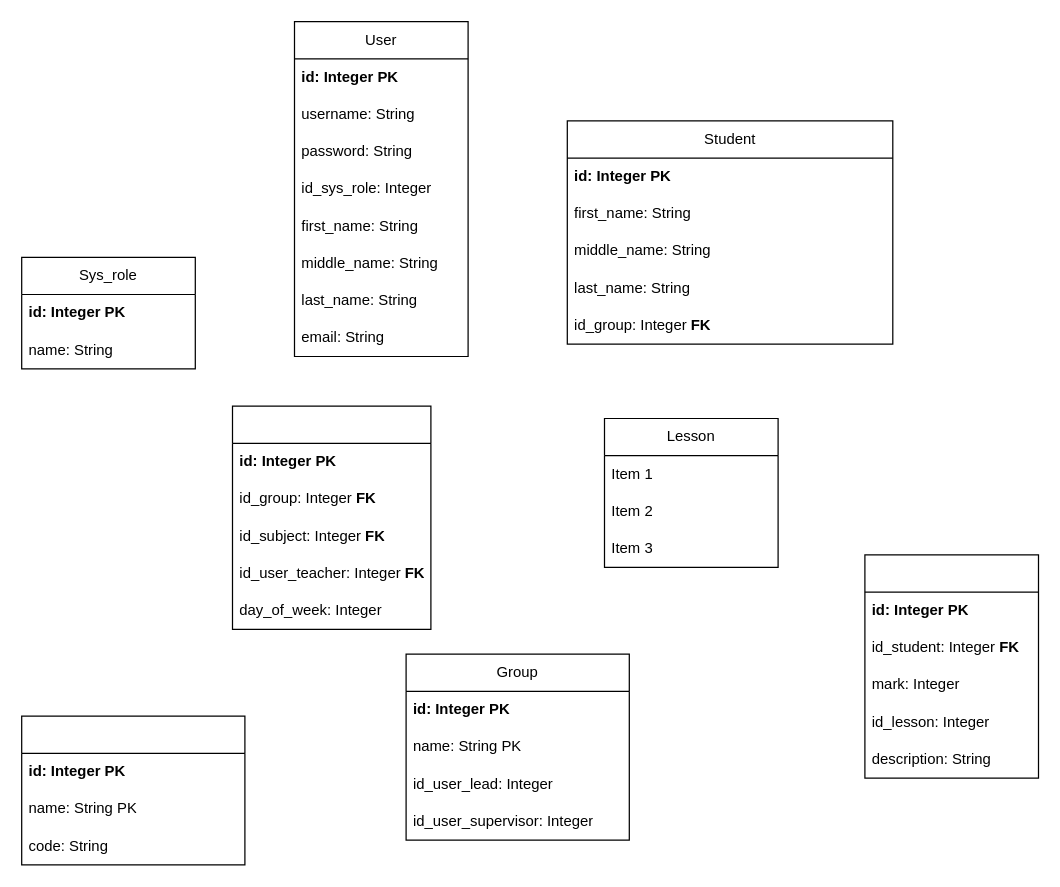
The diagram is 1060 pixels wide and 887 high, and some of its shapes have lost their labels. The shapes that lost their labels are listed below. From the top down, each one's box as (x1, y1, x2, y2) in pixels, then its label:
(231, 405, 431, 629): TimetableLesson
(864, 554, 1038, 778): Marks
(20, 715, 245, 865): Subject
